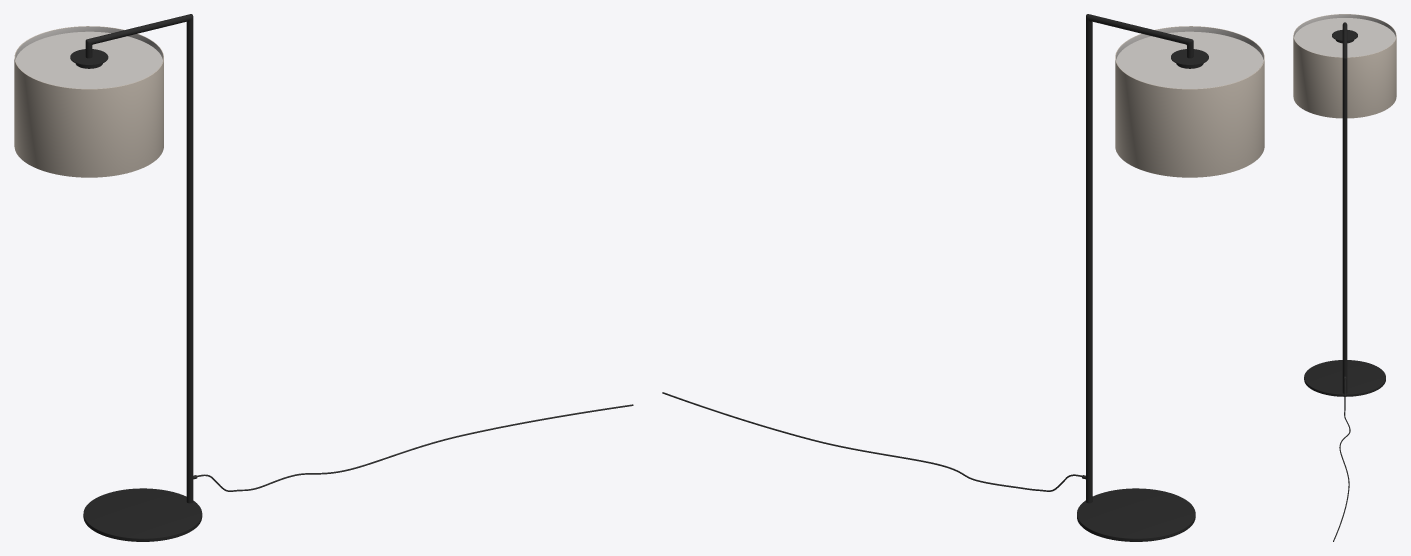
Rendered from floorlamp_FBX.FBX.
3 views of the same model, side by side, from view 1: azimuth 30°, elevation 25°; view 2: azimuth 150°, elevation 25°; view 3: azimuth 270°, elevation 25° (orthographic). The views are drawn at different scales.
Parts seen in each view (by area): view 1: Zeitraum_Floorlamp; view 2: Zeitraum_Floorlamp; view 3: Zeitraum_Floorlamp.
Part boxes in pixels (x1=…): Zeitraum_Floorlamp: x1=14, y1=14, x2=633, y2=541; Zeitraum_Floorlamp: x1=662, y1=14, x2=1264, y2=541; Zeitraum_Floorlamp: x1=1293, y1=14, x2=1396, y2=541.
Bounding box in the file's own units: 212 × 166 × 45.82.
